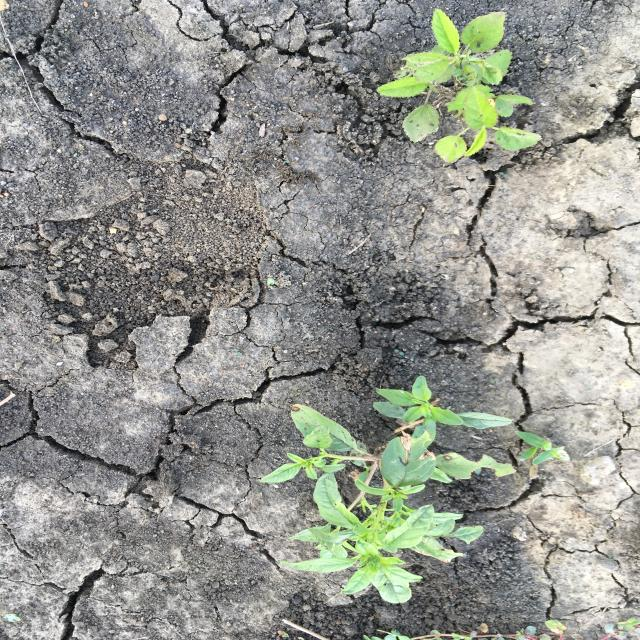PricklySida: (373, 7, 546, 165)
SpottedSpurge: (360, 618, 640, 638)
Waterhemp: (256, 374, 520, 606)
